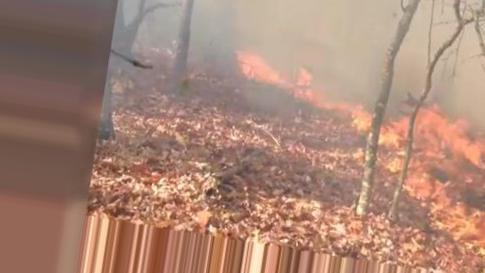fire: (369, 105, 483, 265), (232, 42, 368, 116)
